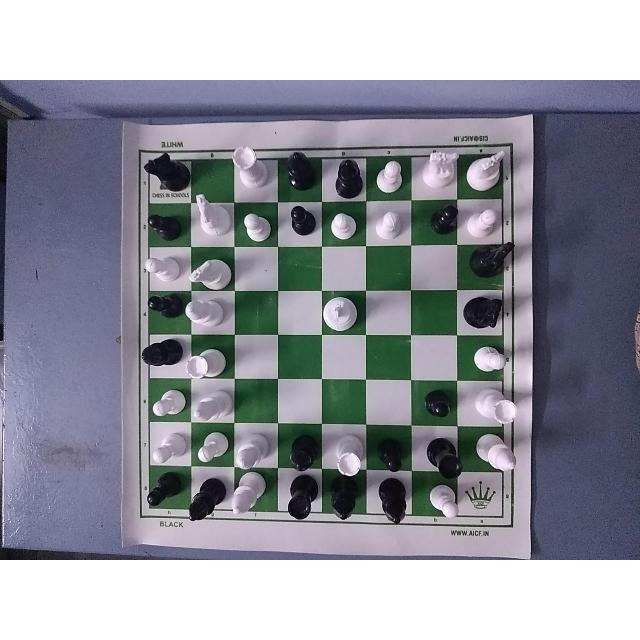black-bishop: (184, 472, 228, 524), (328, 472, 366, 527), (136, 336, 185, 376), (283, 428, 323, 476), (376, 473, 411, 525), (281, 148, 321, 192), (328, 150, 364, 198)
black-knight: (139, 146, 191, 199), (467, 237, 514, 279), (462, 292, 504, 331)
black-pawn: (139, 470, 182, 514), (142, 207, 189, 242), (145, 287, 187, 322), (283, 202, 319, 242), (374, 436, 410, 474), (428, 198, 460, 238), (424, 389, 456, 427)
black-rook: (282, 470, 317, 524), (421, 437, 466, 478)
white-bishop: (470, 430, 521, 476), (190, 381, 232, 427), (226, 471, 266, 516), (184, 293, 232, 329), (232, 431, 268, 473)
white-king: (320, 288, 365, 332)
white-knight: (420, 143, 464, 193), (189, 193, 230, 245), (189, 249, 235, 290), (464, 146, 505, 192)
white-pawn: (151, 422, 195, 468), (370, 200, 409, 247), (465, 340, 515, 376), (425, 478, 465, 523), (237, 205, 279, 247), (463, 200, 503, 240), (145, 249, 187, 286), (324, 206, 361, 244), (194, 425, 228, 465), (376, 157, 409, 197), (150, 385, 190, 417)
white-rook: (229, 143, 273, 199), (181, 341, 234, 383), (472, 385, 520, 427), (333, 429, 367, 477)
